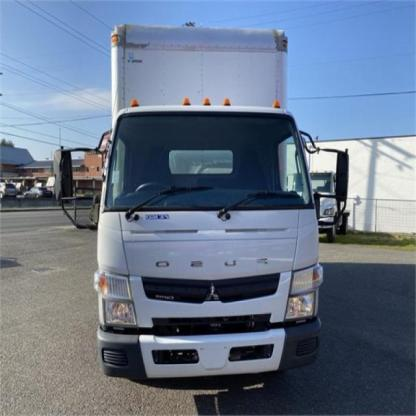truck: (62, 22, 351, 381)
